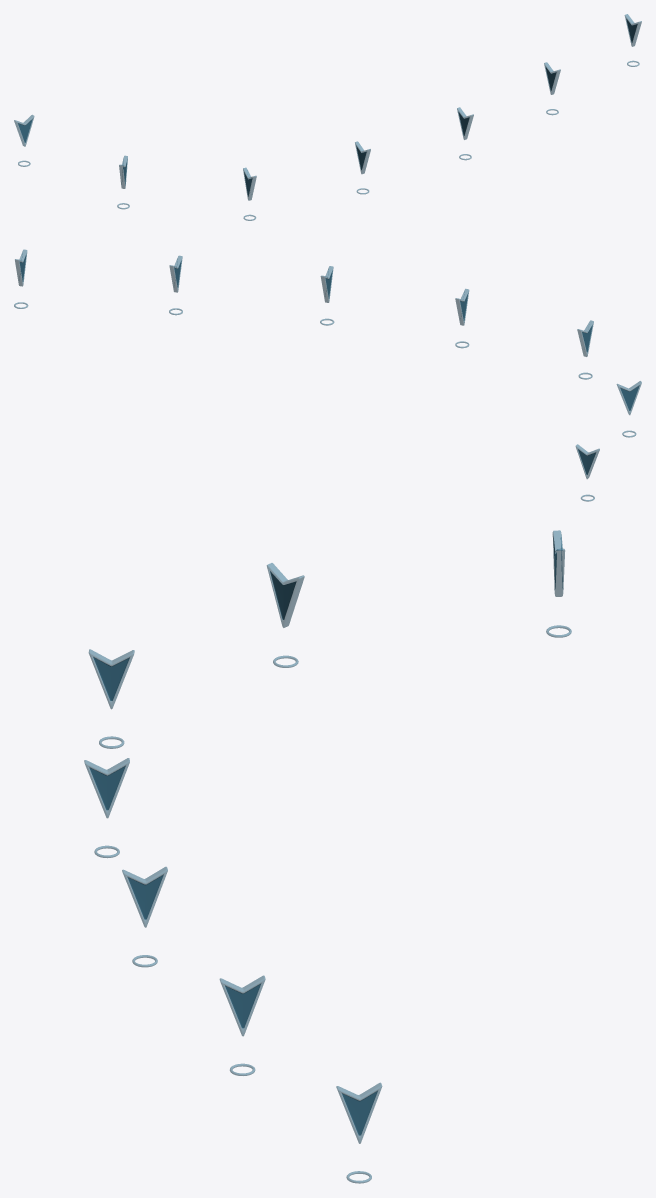
Rendered from Arrow.glb.
3 views of the same model, one above another, from view 1: azimuth 30°, elevation 25°; view 2: azimuth 150°, elevation 25°; view 3: azimuth 270°, elevation 25° (orthographic). The views are drawn at different scales.
Parts seen in each view (by area): view 1: polySurface1; view 2: polySurface1, polySurface1.001; view 3: polySurface1.003, polySurface1.002, polySurface1.005, polySurface1.006, polySurface1.004, polySurface1.001.
Part boxes in pixels (<box>): polySurface1: <box>14,115,34,146</box>; polySurface1: <box>575,444,599,478</box>; polySurface1.001: <box>616,381,641,414</box>; polySurface1.003: <box>84,758,129,818</box>; polySurface1.002: <box>88,649,134,709</box>; polySurface1.005: <box>219,975,265,1036</box>; polySurface1.006: <box>336,1082,382,1143</box>; polySurface1.004: <box>122,867,167,927</box>; polySurface1.001: <box>267,563,304,627</box>.
Bounding box in the file's own units: 10.43 × 0.8067 × 3.83.
Materials: 2 (2 with a texture image).
